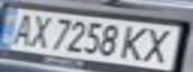2: (66, 17, 87, 55)
5: (81, 19, 106, 56)
7: (45, 16, 72, 52)
8: (100, 21, 124, 59)
A: (3, 10, 39, 46)
K: (118, 24, 154, 62)
X: (136, 25, 181, 64), (24, 11, 54, 50)
